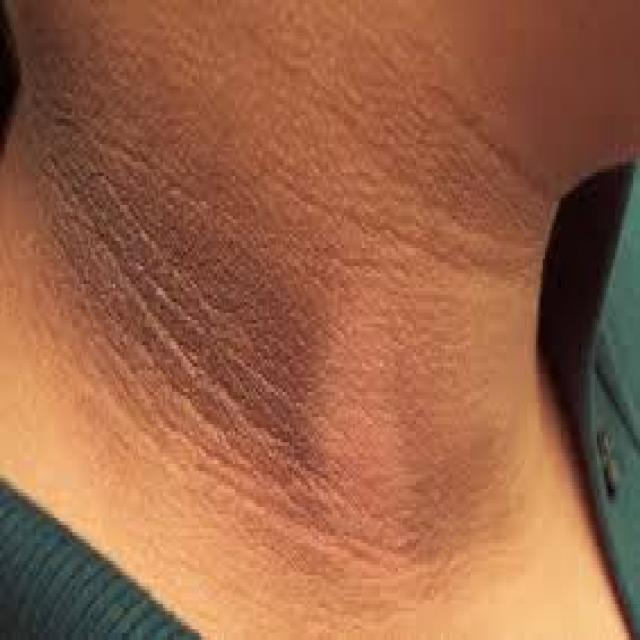Acanthosis Nigricans: (2, 2, 586, 628)
